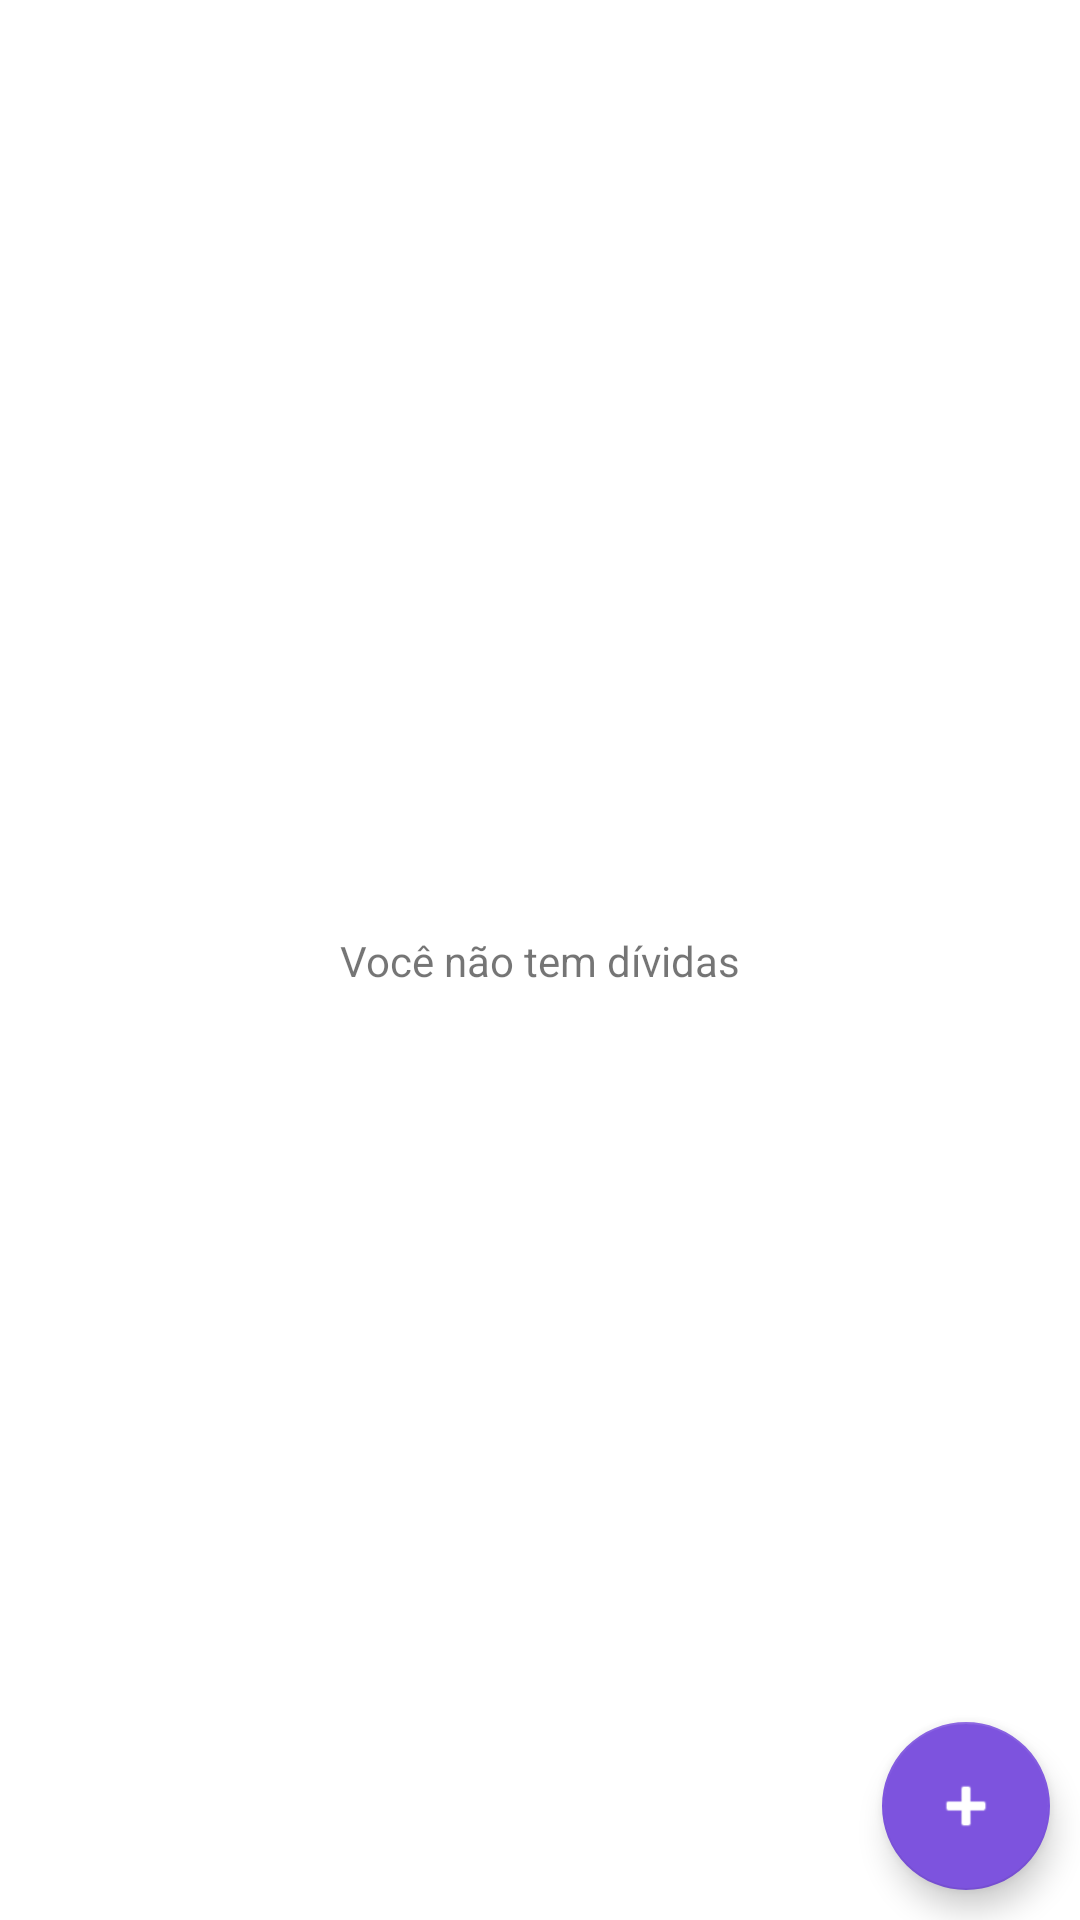

Where to tap for icons on this 1080px x 1920px app screen, as (x=x, y=y):
Adicionar dívida: (x=966, y=1806)
